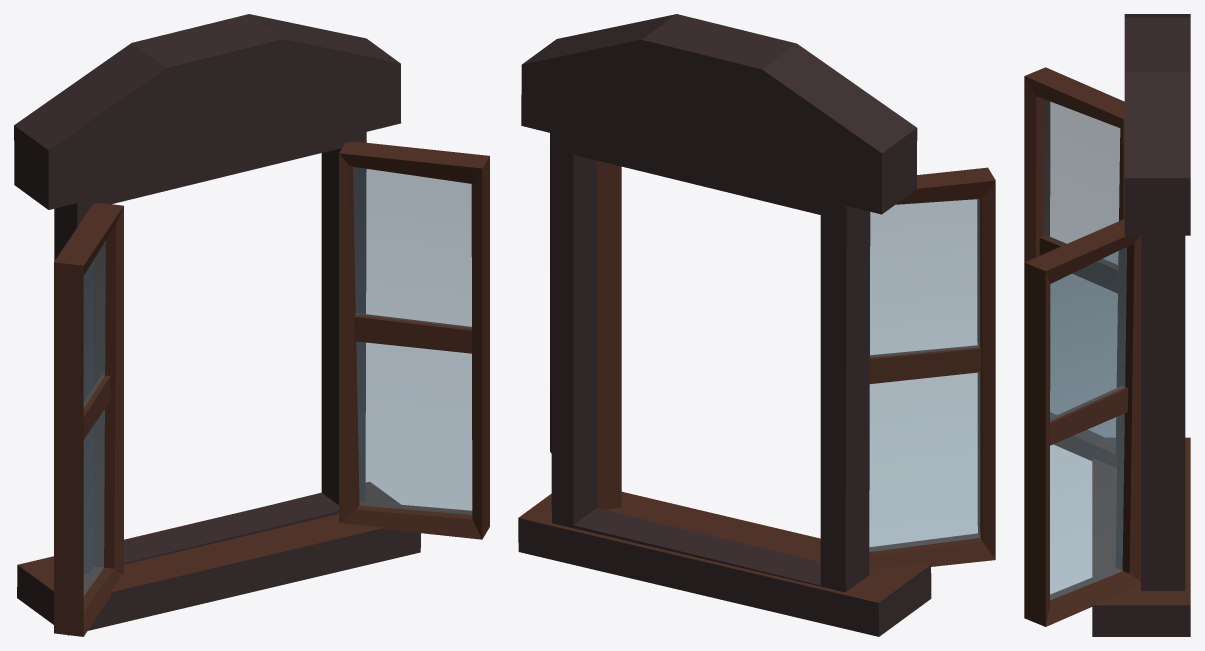
Rendered from Window 2x2 V4 Open v1.glb.
3 views of the same model, side by side, from view 1: azimuth 30°, elevation 25°; view 2: azimuth 150°, elevation 25°; view 3: azimuth 270°, elevation 25° (orthographic). The views are drawn at different scales.
Visible parts, largest first — view 1: Window 2x2 V4 Open v1; view 2: Window 2x2 V4 Open v1; view 3: Window 2x2 V4 Open v1.
Boxes of the visible parts, box(x1,y1,x2,y2) form: Window 2x2 V4 Open v1: box(14, 14, 489, 636); Window 2x2 V4 Open v1: box(518, 14, 995, 636); Window 2x2 V4 Open v1: box(1024, 14, 1190, 636).
Size of the model in its own units: 1.74 by 2.02 by 0.5977.
2 materials, 2 textured.
